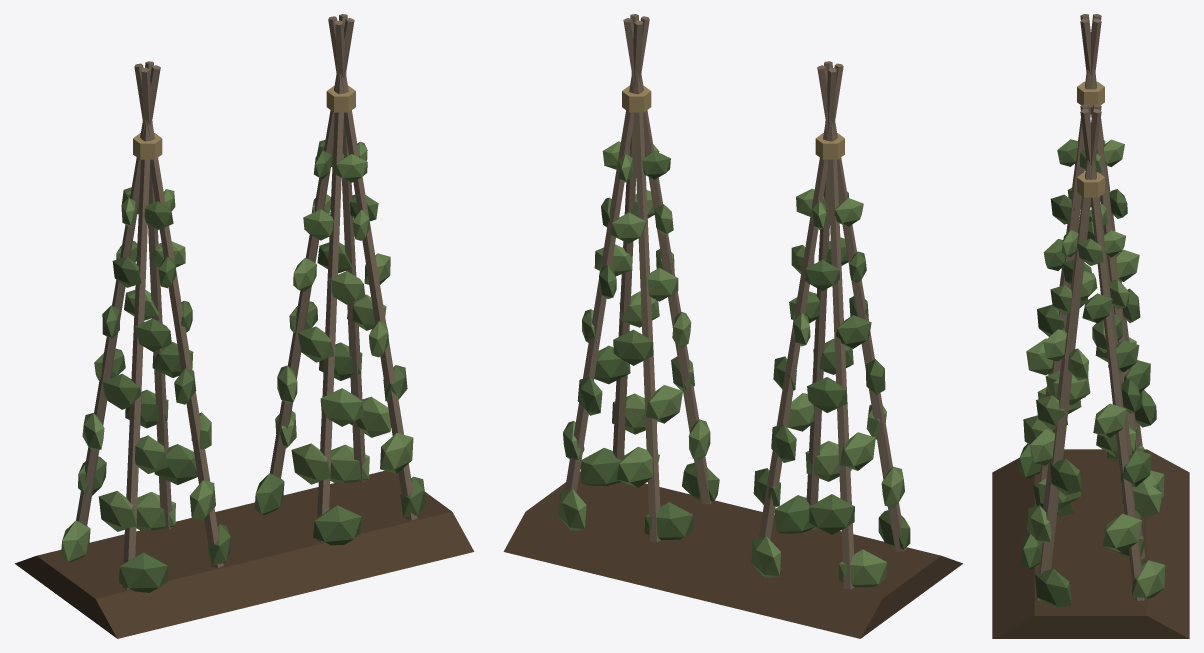
Rendered from garden_beans.glb.
The picture shows the model from 3 angles, left to right: view 1: azimuth 30°, elevation 25°; view 2: azimuth 150°, elevation 25°; view 3: azimuth 270°, elevation 25°; orthographic projection. The views are drawn at different scales.
Visible parts, largest first — view 1: Garden_Beans; view 2: Garden_Beans; view 3: Garden_Beans.
Boxes of the visible parts, bbox=[...] form: Garden_Beans: bbox=[15, 14, 474, 638]; Garden_Beans: bbox=[503, 14, 962, 638]; Garden_Beans: bbox=[992, 14, 1189, 638].
Size of the model in its own units: 1.4 by 1.94 by 0.7.
